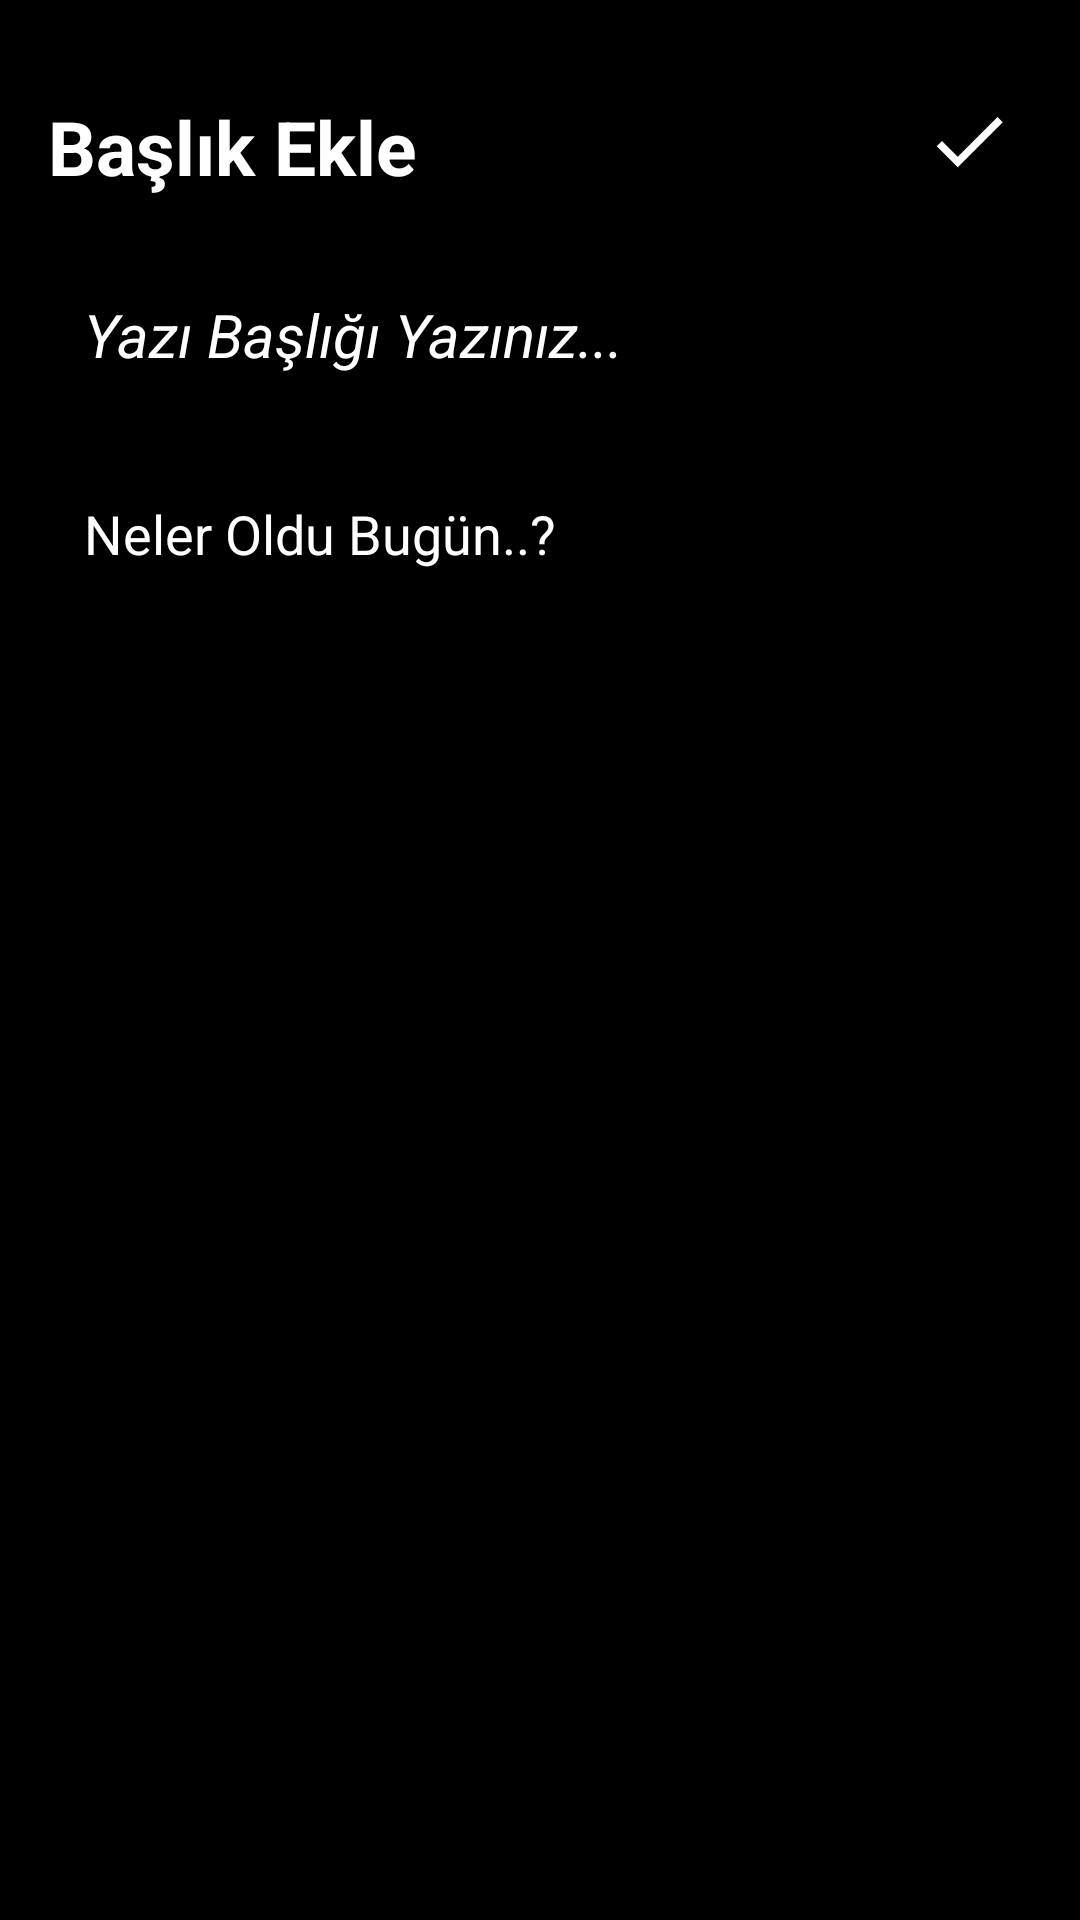

Icons on this 1080px×1920px Android screen, each with its box as (x1, y1, x2, y2):
done: (937, 117, 1003, 167)
